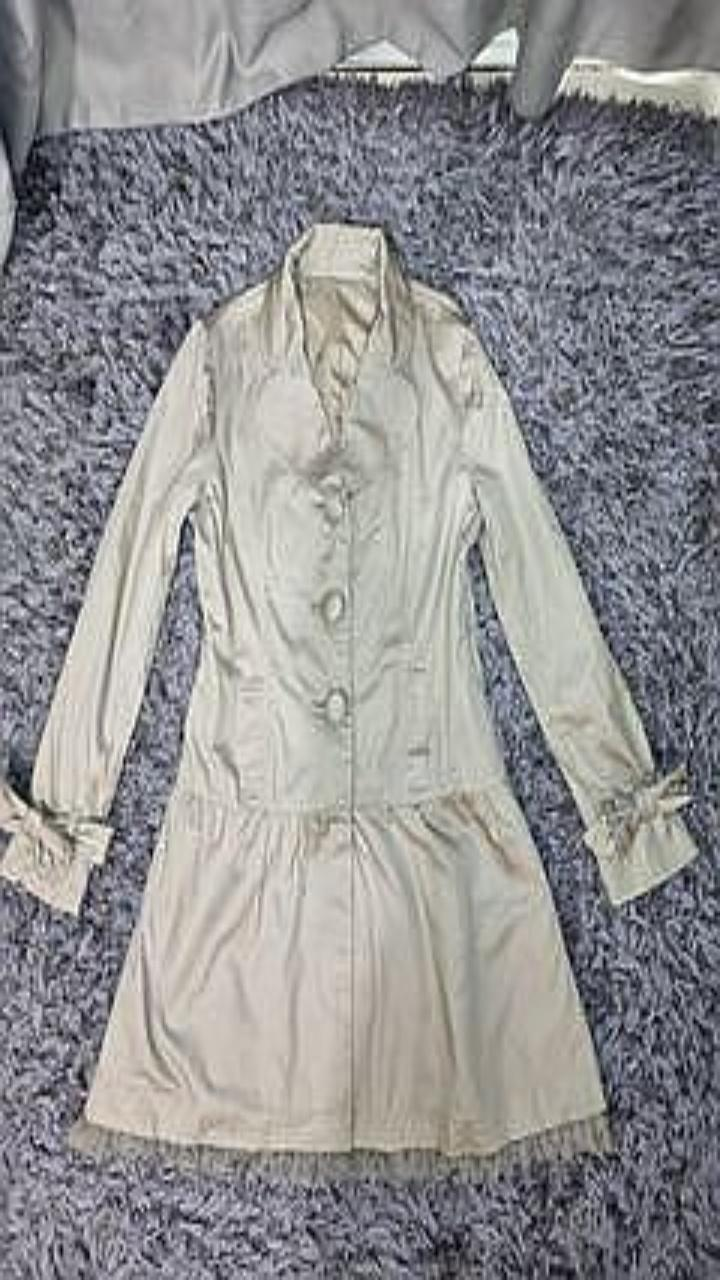Coat: (0, 221, 696, 1167)
